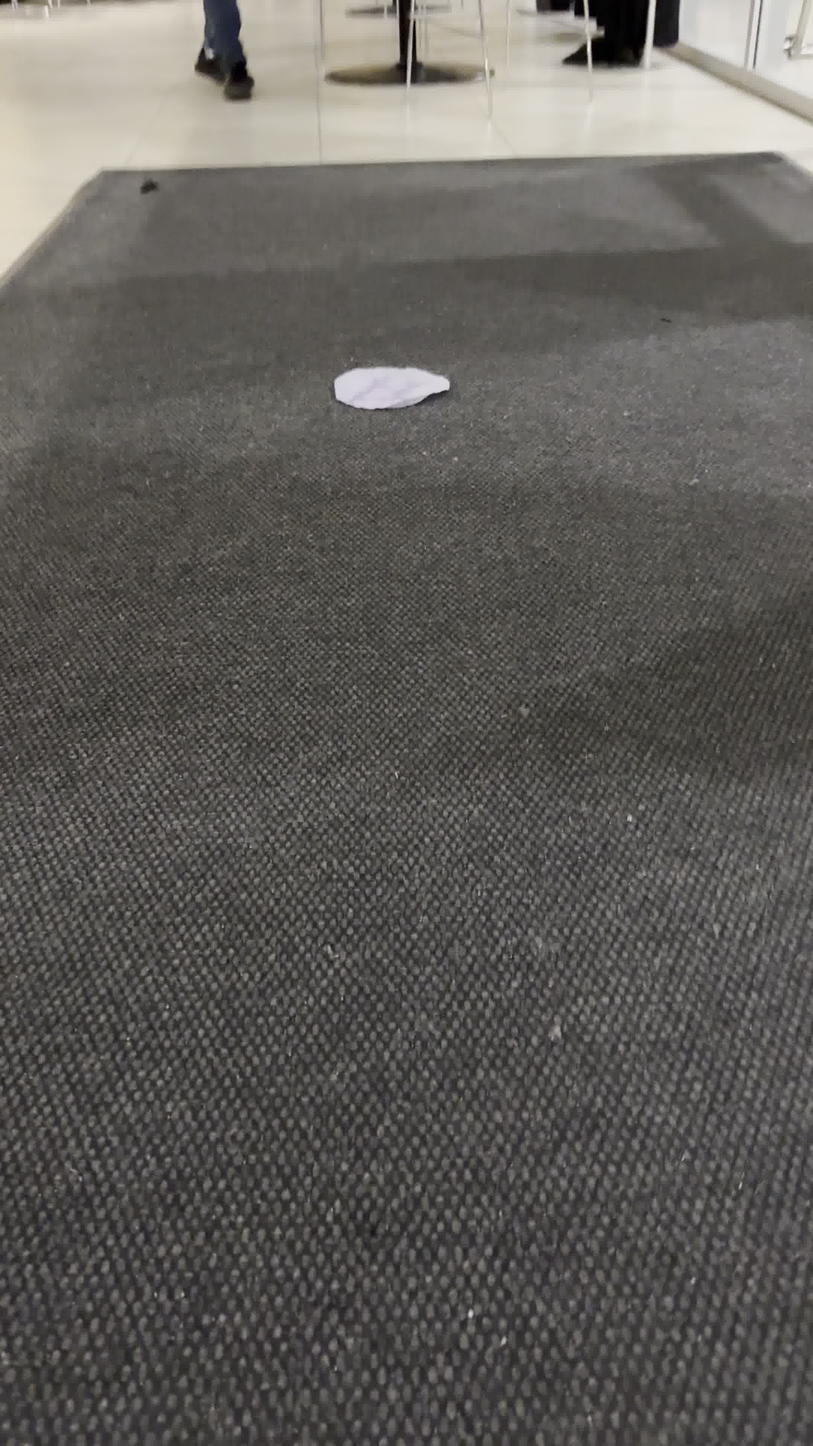Target: (331, 361, 455, 414)
